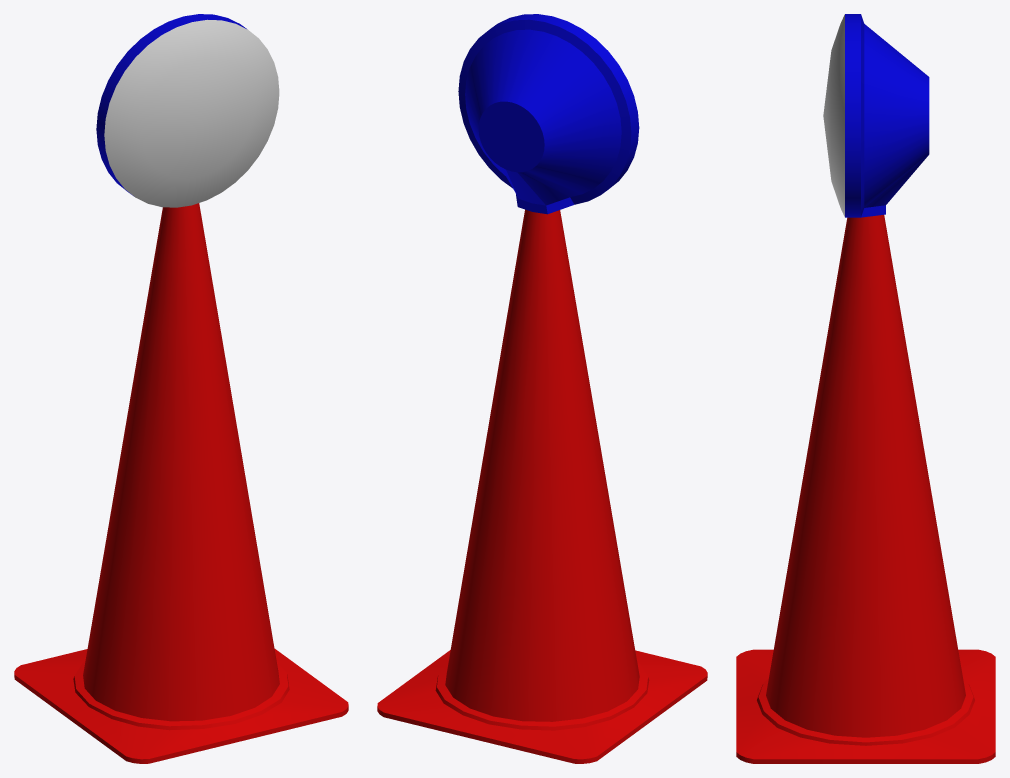
Rendered from StopRoadCone_00.fbx.
3 renders of one model, left to right at view 1: azimuth 30°, elevation 25°; view 2: azimuth 150°, elevation 25°; view 3: azimuth 270°, elevation 25°, orthographic. The views are drawn at different scales.
Parts seen in each view (by area): view 1: StopRoadCone_00, StopRoadCone_Glass_00; view 2: StopRoadCone_00; view 3: StopRoadCone_00, StopRoadCone_Glass_00.
Part boxes in pixels (x1,y1,x2,y2): StopRoadCone_00: [14, 14, 348, 763]; StopRoadCone_Glass_00: [104, 19, 279, 207]; StopRoadCone_00: [377, 14, 707, 763]; StopRoadCone_00: [736, 14, 995, 763]; StopRoadCone_Glass_00: [823, 14, 844, 216].
Size of what is drawn, in the model's own units: 0.3802 by 1.11 by 0.3802.
